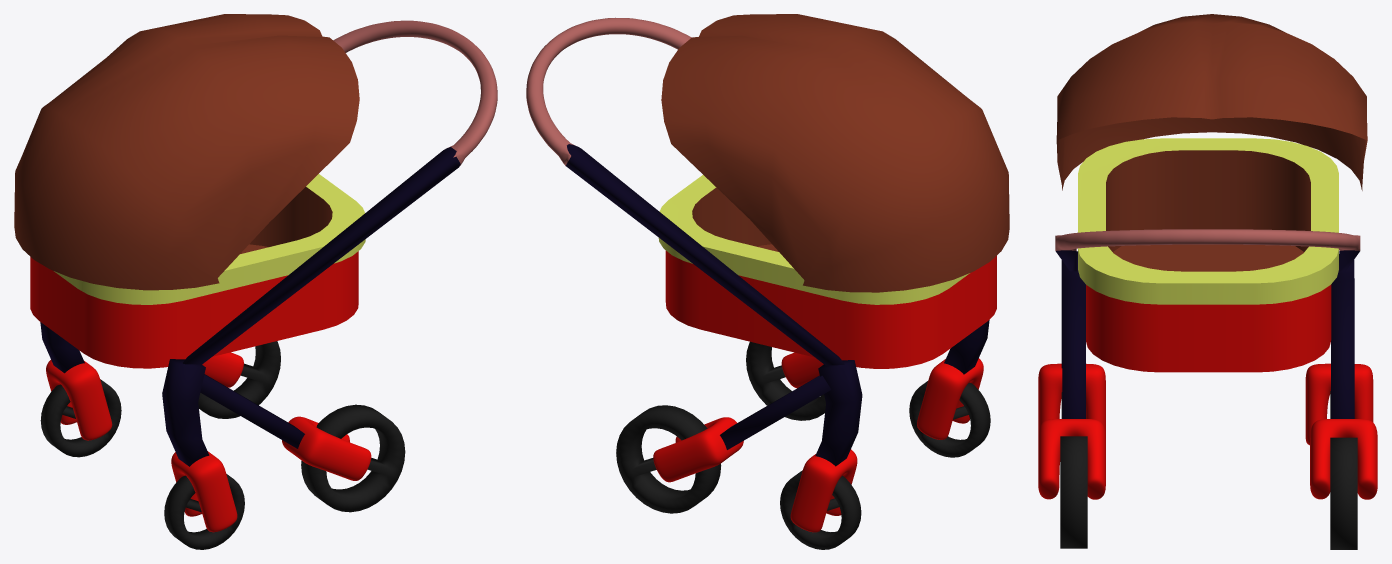
The model's file is carrinho.fbx.
3 views of the same model, side by side, from view 1: azimuth 30°, elevation 25°; view 2: azimuth 150°, elevation 25°; view 3: azimuth 270°, elevation 25° (orthographic). The views are drawn at different scales.
Visible parts, largest first — view 1: Circle, Cube, Circle.001, Circle.005, Cube.002, Cube.005, Cube.006, Cube.007, Circle.002, Circle.003, Circle.004, Cube.004 (+2 smaller); view 2: Circle, Cube, Circle.001, Circle.004, Cube.001, Cube.005, Cube.008, Cube.006, Circle.002, Circle.003, Circle.005, Cube.003 (+2 smaller); view 3: Cube, Circle, Circle.001, Cube.008, Cube.007, Cube.004, Cube.003, Circle.004, Circle.005, Cube.005, Cube.006, Cube.002.
Part boxes in pixels (x1,y1,x2,y2): Circle: [14, 14, 359, 290]; Cube: [30, 174, 365, 368]; Circle.001: [183, 20, 497, 364]; Circle.005: [301, 404, 405, 512]; Cube.002: [162, 359, 209, 466]; Cube.005: [46, 360, 112, 440]; Cube.006: [171, 451, 237, 532]; Cube.007: [282, 416, 371, 480]; Circle.002: [40, 379, 121, 457]; Circle.003: [164, 474, 244, 549]; Circle.004: [198, 341, 280, 418]; Cube.004: [200, 374, 304, 448]; Circle: [661, 14, 1009, 292]; Cube: [658, 175, 996, 368]; Circle.001: [526, 17, 844, 365]; Circle.004: [616, 405, 721, 513]; Cube.001: [815, 360, 862, 466]; Cube.005: [790, 449, 857, 532]; Cube.008: [653, 417, 743, 482]; Cube.006: [917, 358, 983, 439]; Circle.002: [780, 470, 861, 549]; Circle.003: [909, 381, 990, 457]; Circle.005: [746, 341, 825, 420]; Cube.003: [720, 375, 831, 449]; Cube: [1078, 138, 1338, 372]; Circle: [1056, 14, 1367, 190]; Circle.001: [1055, 229, 1360, 271]; Cube.008: [1310, 419, 1377, 499]; Cube.007: [1038, 419, 1105, 499]; Cube.004: [1062, 278, 1085, 418]; Cube.003: [1331, 278, 1354, 418]; Circle.004: [1330, 437, 1357, 549]; Circle.005: [1060, 436, 1087, 548]; Cube.005: [1305, 363, 1373, 445]; Cube.006: [1038, 363, 1105, 437]; Cube.002: [1061, 251, 1080, 367].
Bounding box in the file's own units: 546 × 529 × 346.
